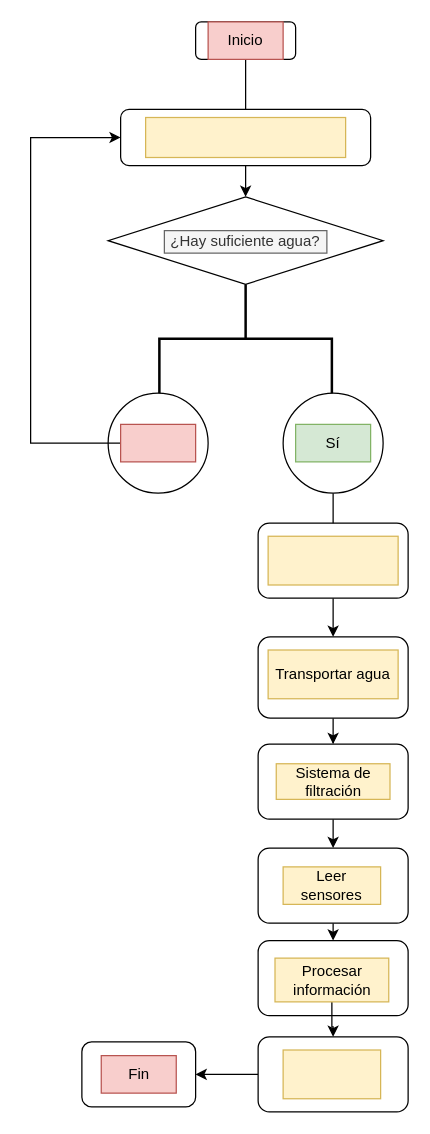
This 430x1134 diagram has some shape labels left out. Here are the shapes that lost their labels. From the top down, the centre of each, then its label:
At point (245, 137): "Verificar nivel de agua".
At point (157, 442): "No".
At point (332, 560): "Activar bomba".
At point (331, 1074): "Mostrar resultados".
